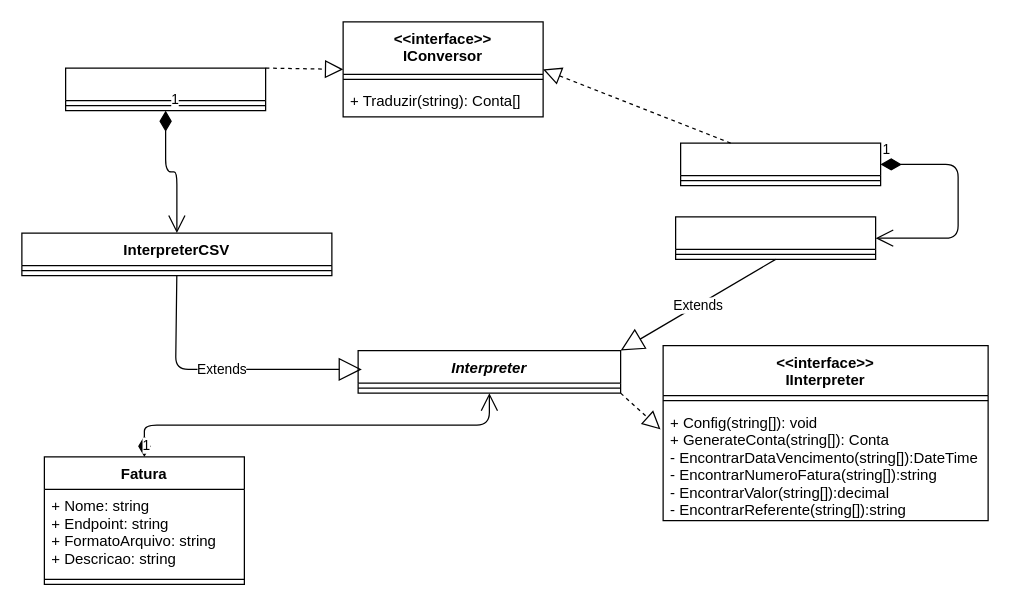
Image size: 1010x606. Some labels were removed from this diagram. The shapes that lost their labels are listed below. From the top down, each one's box as (x1, y1, x2, y2) in pixels, then its label:
(64, 67, 266, 111): LeitorCSV
(679, 142, 881, 186): LeitorJSON
(674, 216, 876, 259): InterpreterJSON
